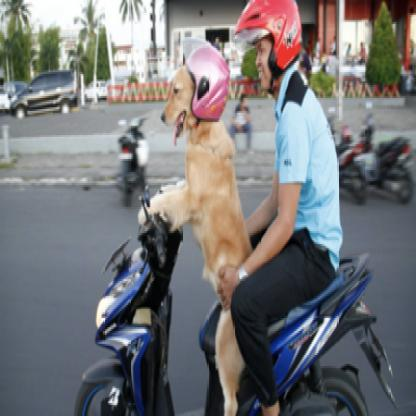Helmet: (233, 1, 328, 101), (158, 38, 236, 140)
